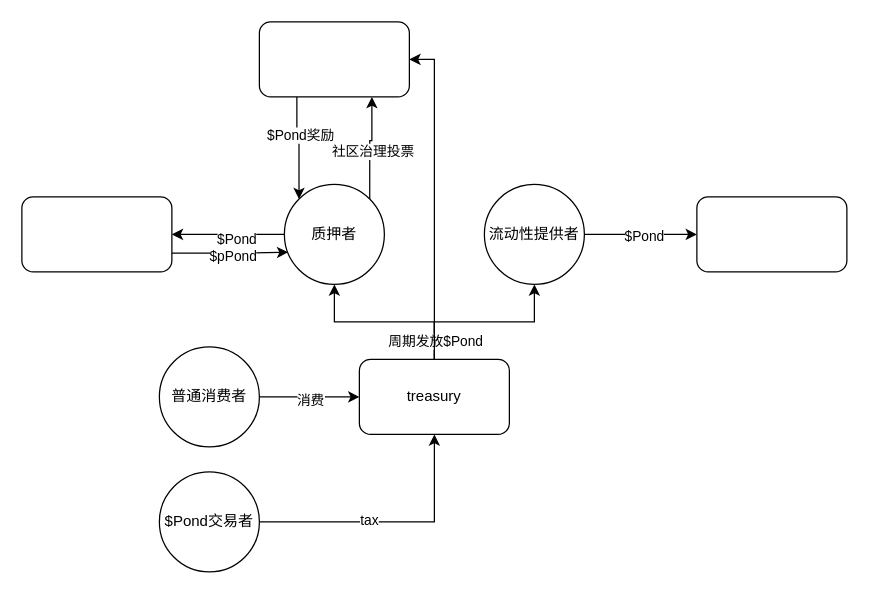
Image size: 869x594. Some labels were removed from this diagram. Each missing label, with the centre of its shape:
"流动性池" belongs at [771,234].
"社区治理" belongs at [333,59].
"质押池" belongs at [96,234].
